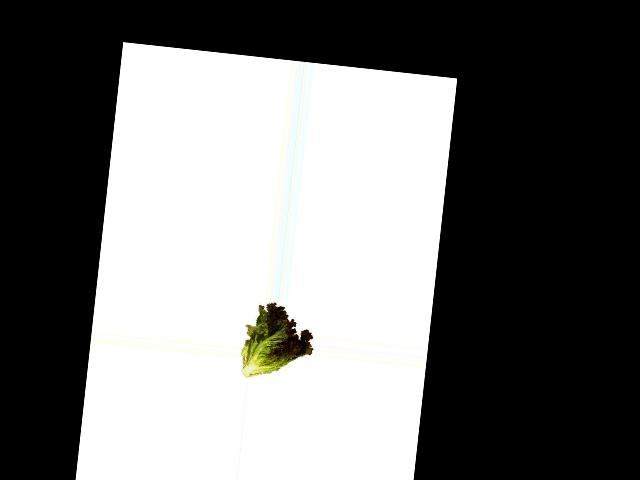lettuce: (240, 299, 316, 382)
